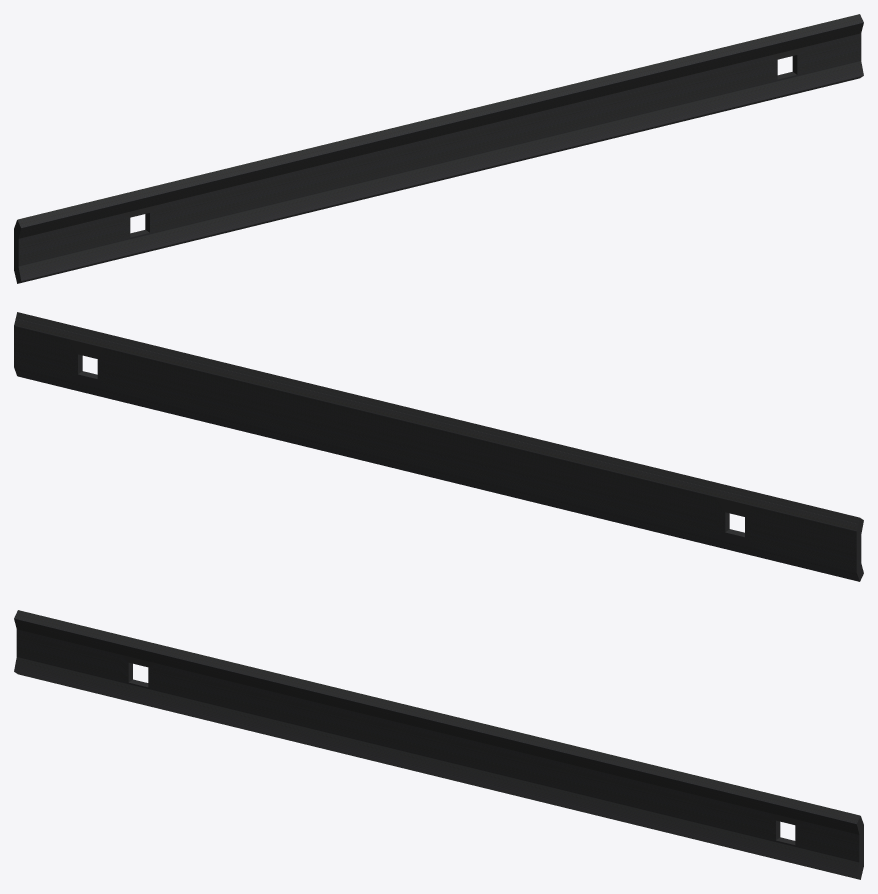
Rendered from Clamping_Bar.dae.
3 renders of one model, top to bottom at view 1: azimuth 30°, elevation 25°; view 2: azimuth 150°, elevation 25°; view 3: azimuth 330°, elevation 25°, orthographic.
Parts seen in each view (by area): view 1: Clamping_Bar; view 2: Clamping_Bar; view 3: Clamping_Bar.
Part boxes in pixels (x1,y1,x2,y2): Clamping_Bar: (14, 14, 863, 283); Clamping_Bar: (14, 312, 863, 581); Clamping_Bar: (14, 610, 863, 879).
Bounding box in the file's own units: 0.1425 × 0.00212 × 0.0104.
Materials: 1 (1 with a texture image).
